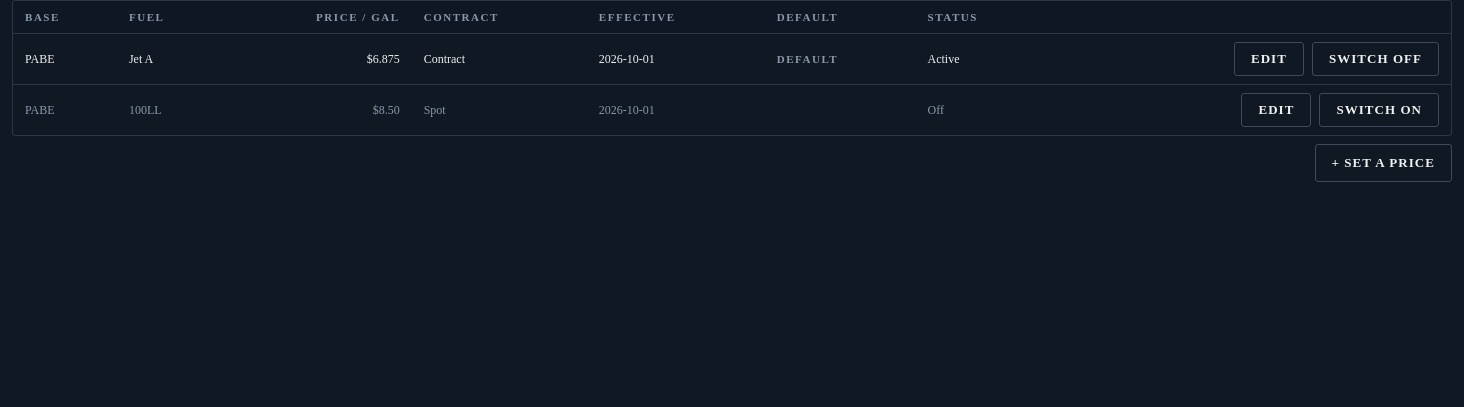
Test: SupplierPrices (#134) › sets a new price at one of the company's stations
This screenshot has width=1464, height=407.
Step 1. Click the button "+ Set a price" → {"x": 1383, "y": 163}, box [1315,144,1452,182]
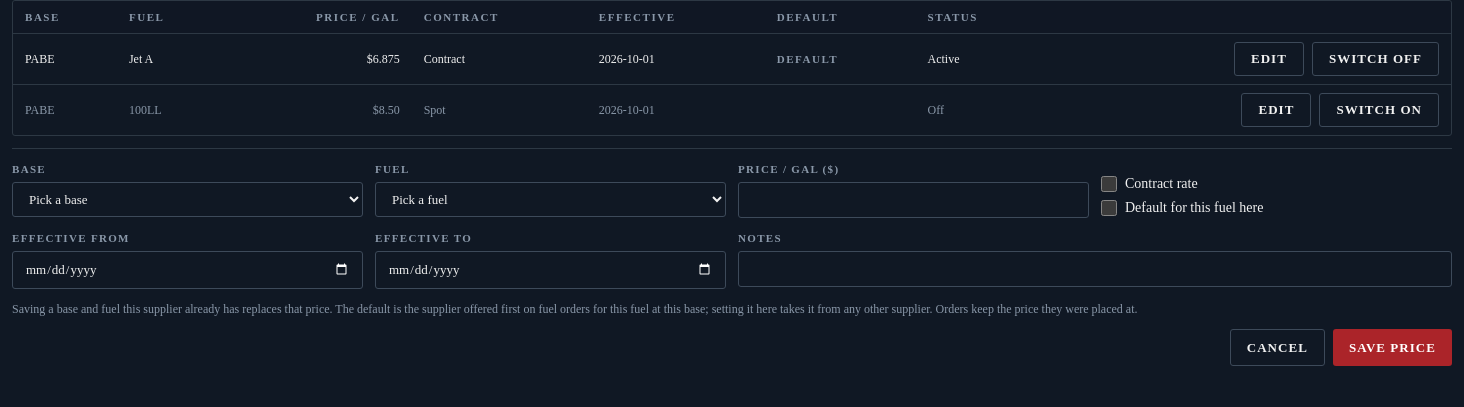
Step 2. Select "PAEM — Emmonak" in the dropdown labelled "Base" → {"x": 188, "y": 200}, box [12,182,363,217]
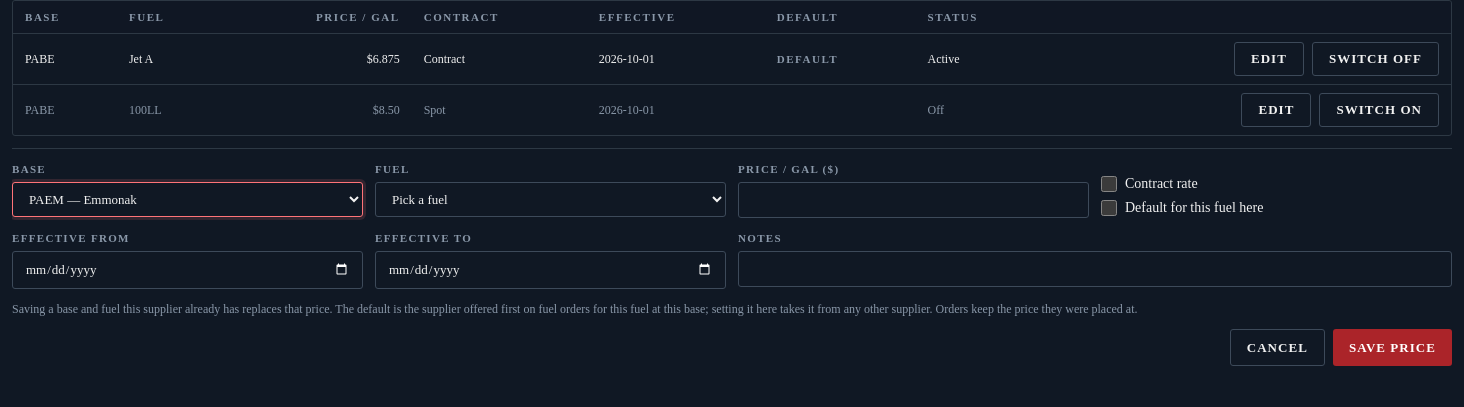
Step 3. Select "100LL" in the dropdown labelled "Fuel" → {"x": 550, "y": 200}, box [375,182,726,217]
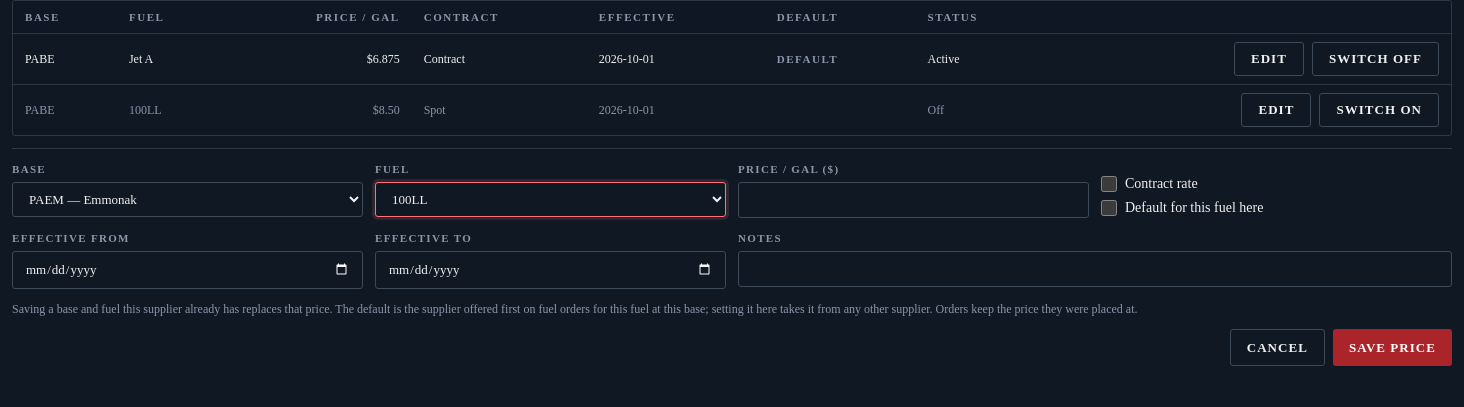
Step 4. Type "9.25" into the number field labelled "Price / gal ($)" → {"x": 914, "y": 200}, box [738,182,1089,218]
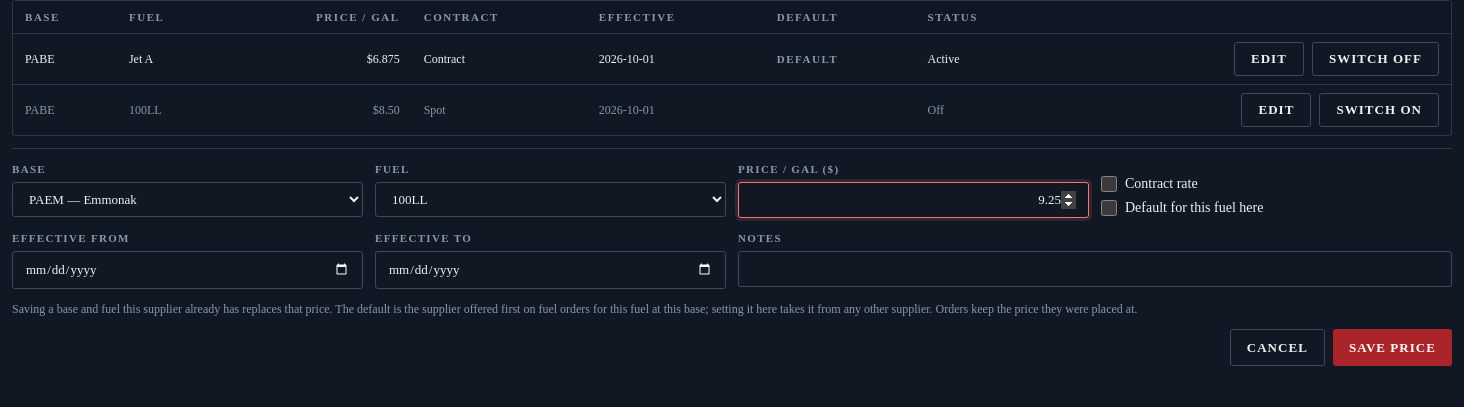
Step 5. Click the button "Save price" → {"x": 1392, "y": 347}, box [1333,329,1452,366]
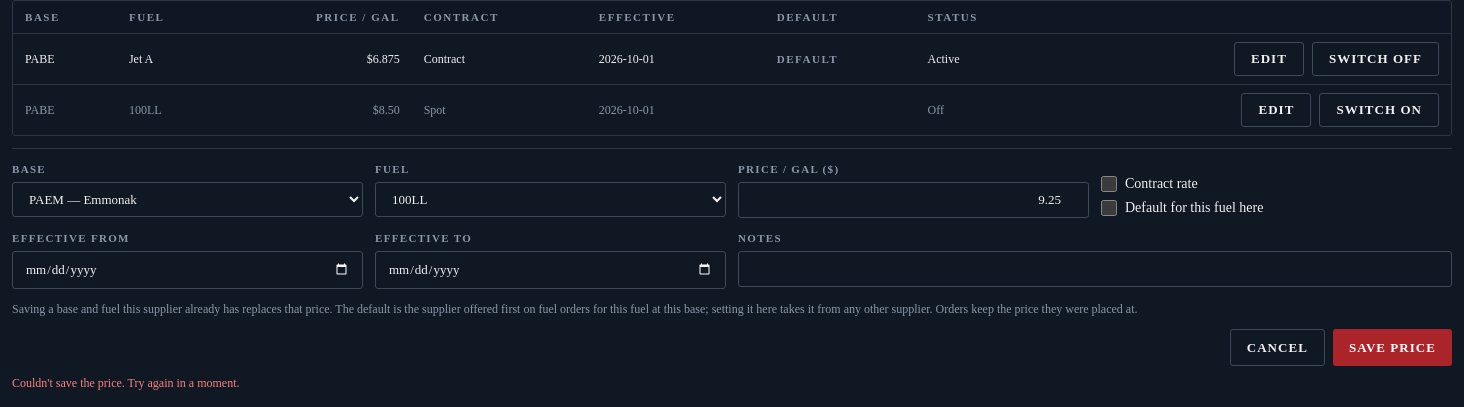
Now the form named "Set a price from Tundra Fuel" is shown, box [12,148,1452,366]
Now the message shows "Couldn't save the price.", box [12,376,240,390]
